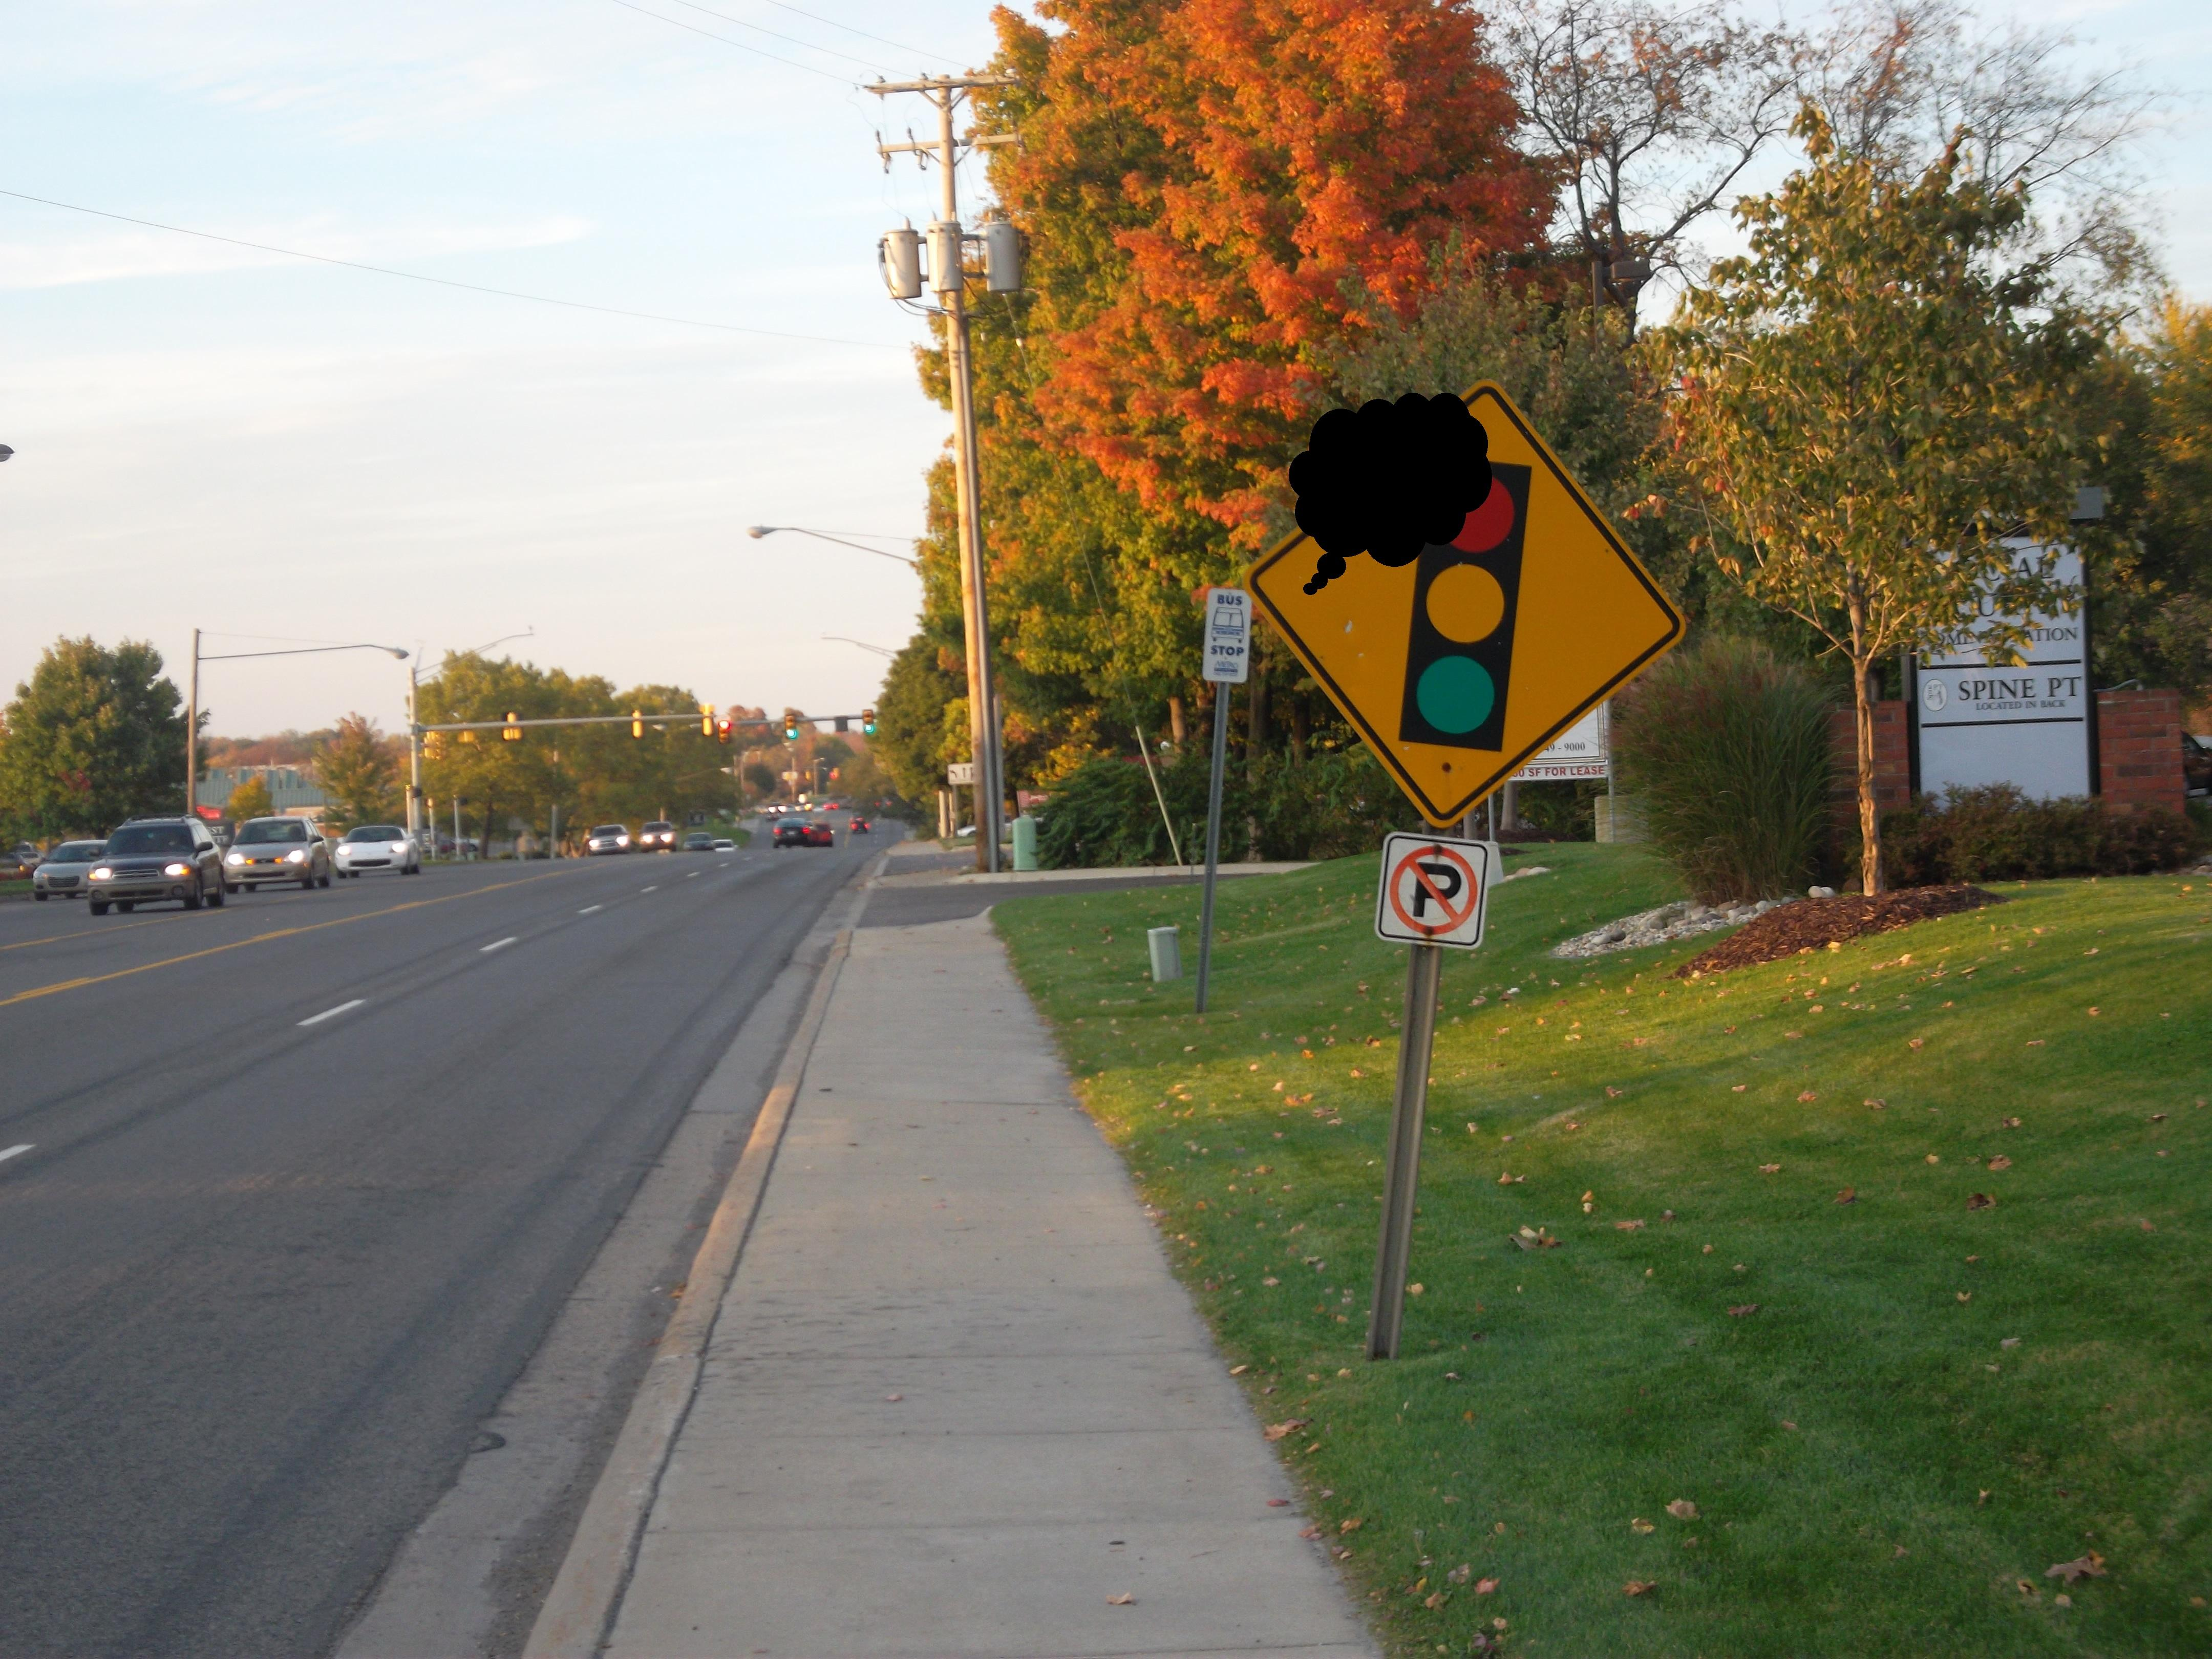regulatory: (1376, 835, 1494, 955), (948, 765, 979, 784)
warning: (1247, 376, 1688, 829)
